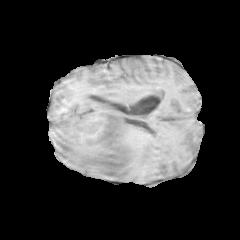glioma: (51, 93, 149, 173)
